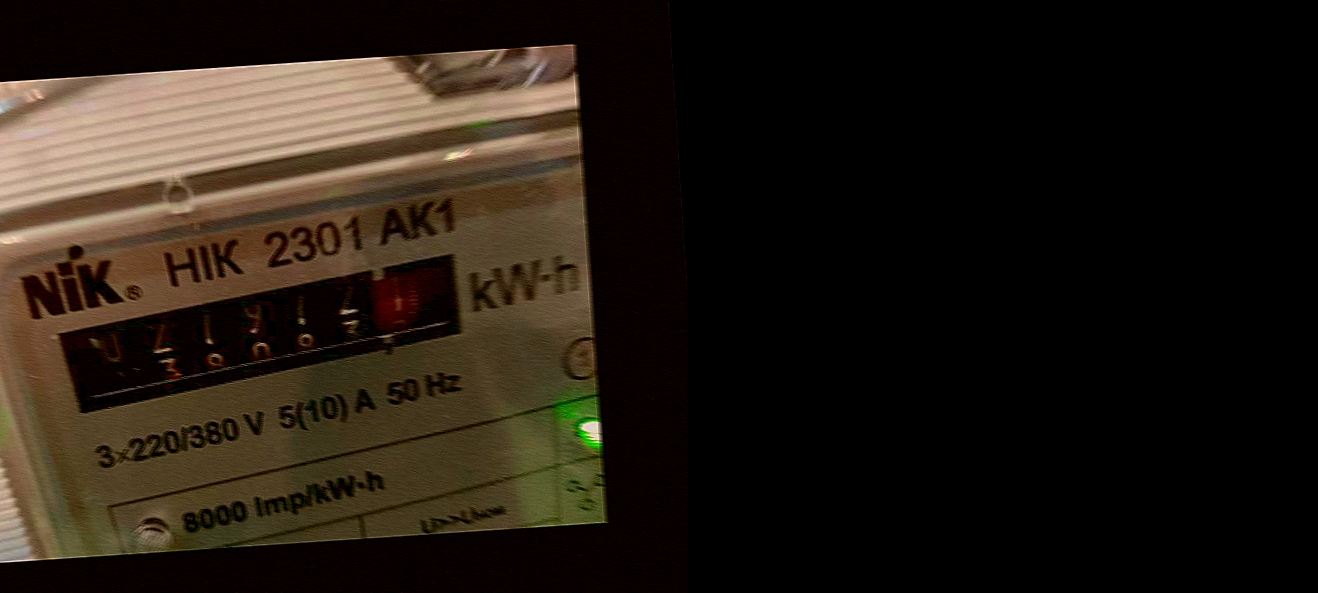0: (96, 327, 126, 365)
1: (386, 271, 410, 315)
2: (144, 314, 175, 355), (332, 278, 362, 317)
7: (285, 286, 314, 329), (194, 309, 219, 347)
9: (240, 298, 268, 335)
screen: (38, 241, 499, 425)
